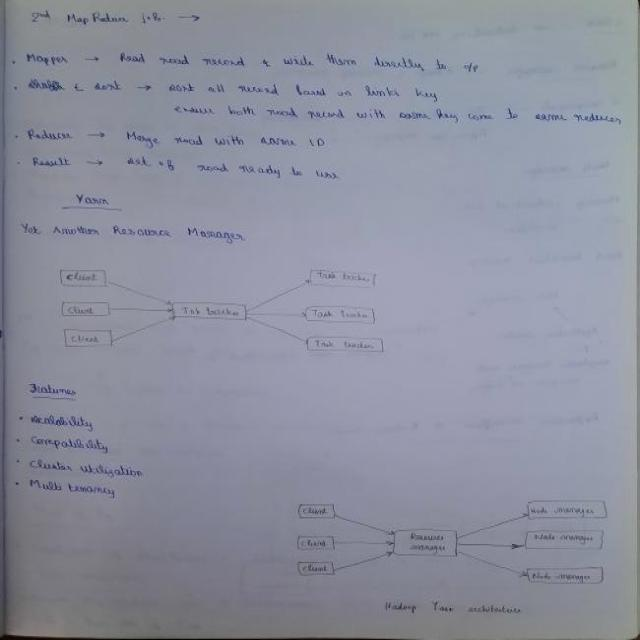Figure Detection - v3 Dataset Version2: (279, 478, 632, 616), (43, 251, 412, 371)
